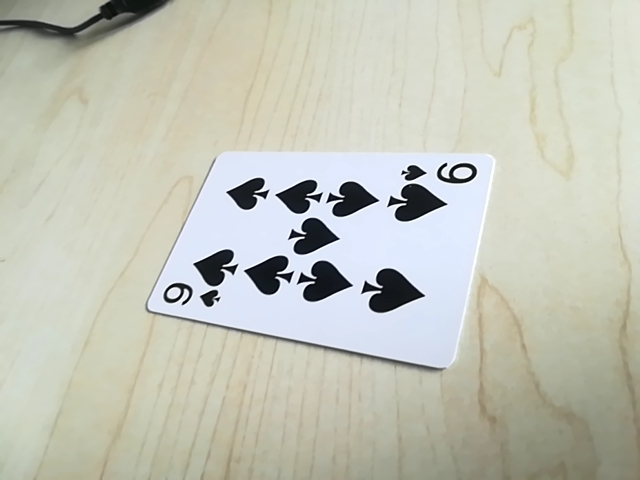ht 9: (396, 156, 485, 187), (154, 284, 226, 315)
